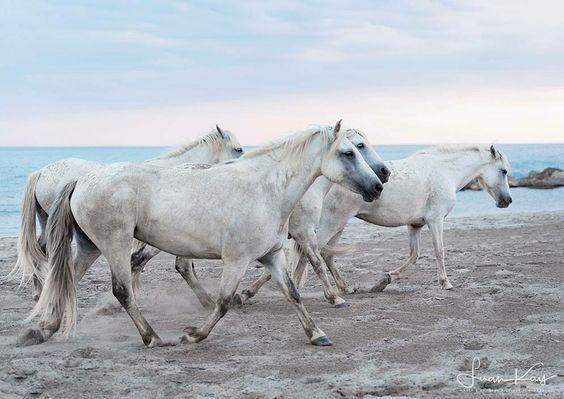horse: (17, 118, 388, 348), (6, 123, 245, 316)
